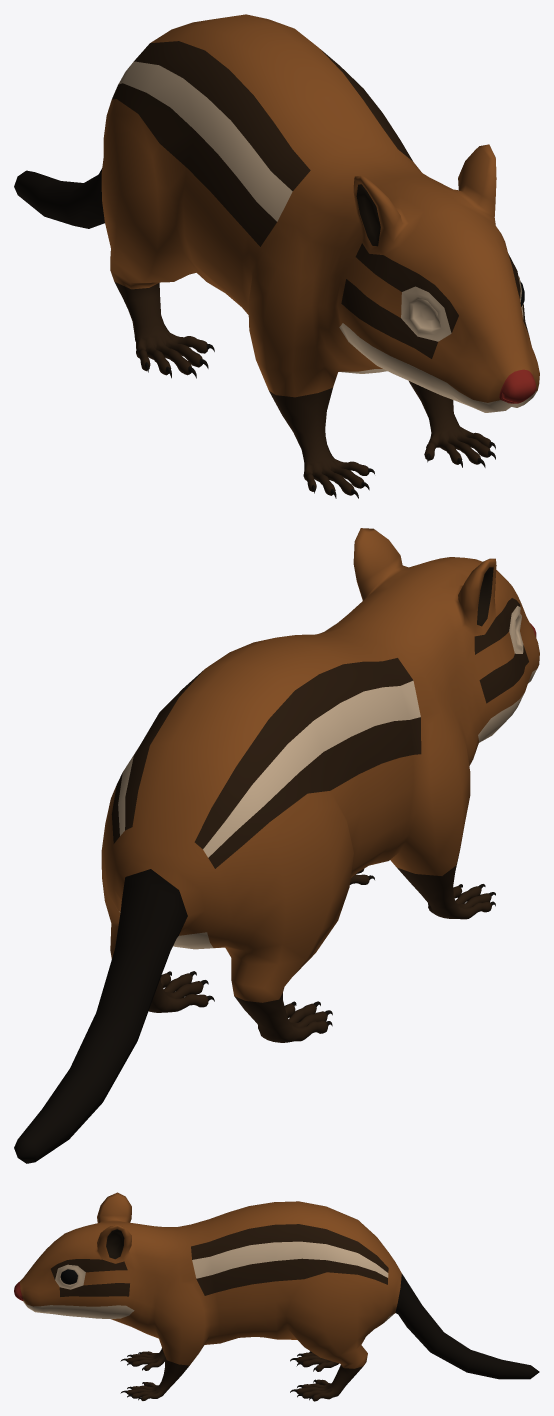
The model's file is chipmunk.obj.
3 renders of one model, top to bottom at view 1: azimuth 30°, elevation 25°; view 2: azimuth 150°, elevation 25°; view 3: azimuth 270°, elevation 25°, orthographic. The views are drawn at different scales.
Visible parts, largest first — view 1: chipmunk; view 2: chipmunk; view 3: chipmunk.
Part boxes in pixels (x1,y1,x2,y2): chipmunk: (14,14,539,498); chipmunk: (14,528,539,1163); chipmunk: (14,1192,539,1401).
Bounding box in the file's own units: 0.0528 × 0.0781 × 0.2158.
